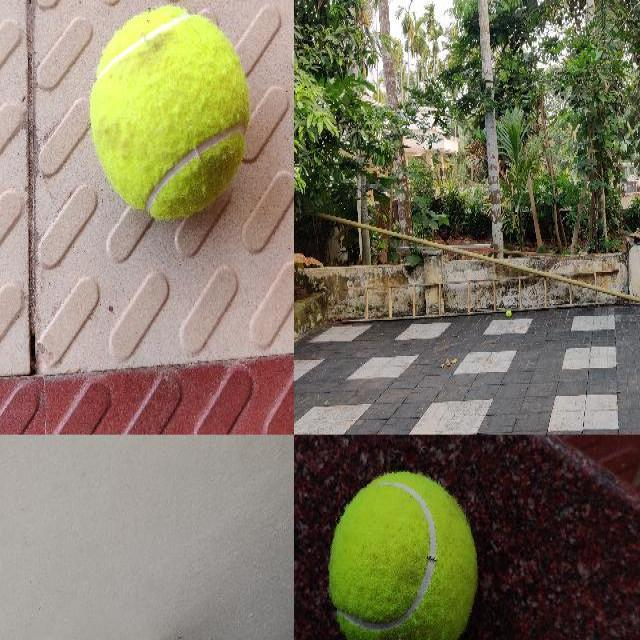tennis-ball: (90, 5, 248, 219), (328, 471, 478, 638), (505, 310, 511, 317)
